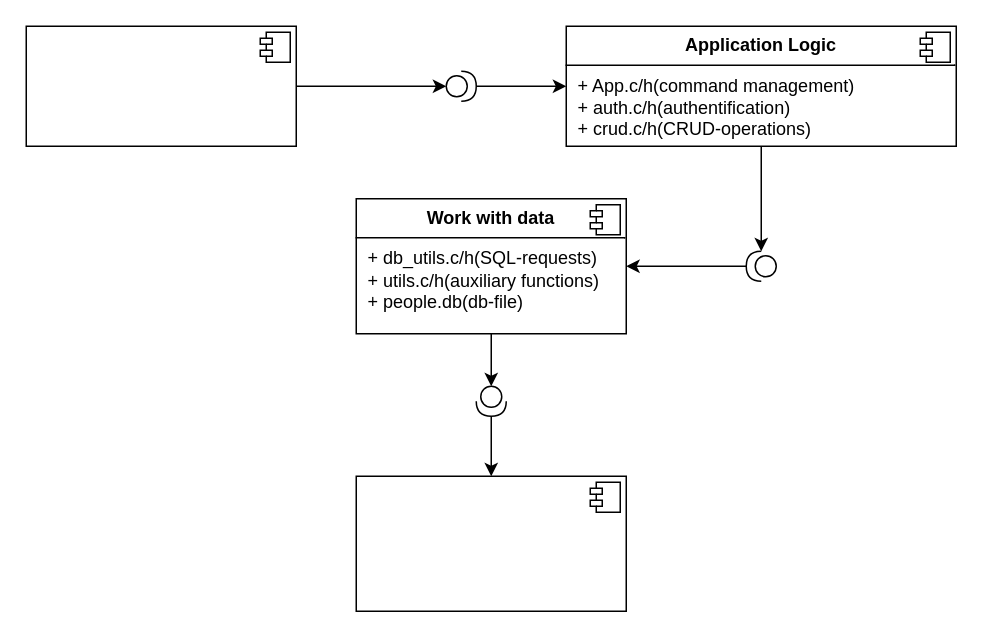
This 983x638 diagram has some shape labels left out. The shapes that lost their labels are listed below. From the top down, each one's centre as x and y in pixels, then its label:
At pixel 160 85: "User interface + main.c(input/output, menu)".
At pixel 490 543: "External Dependencies + sqlite3.h (SQLite library)".
